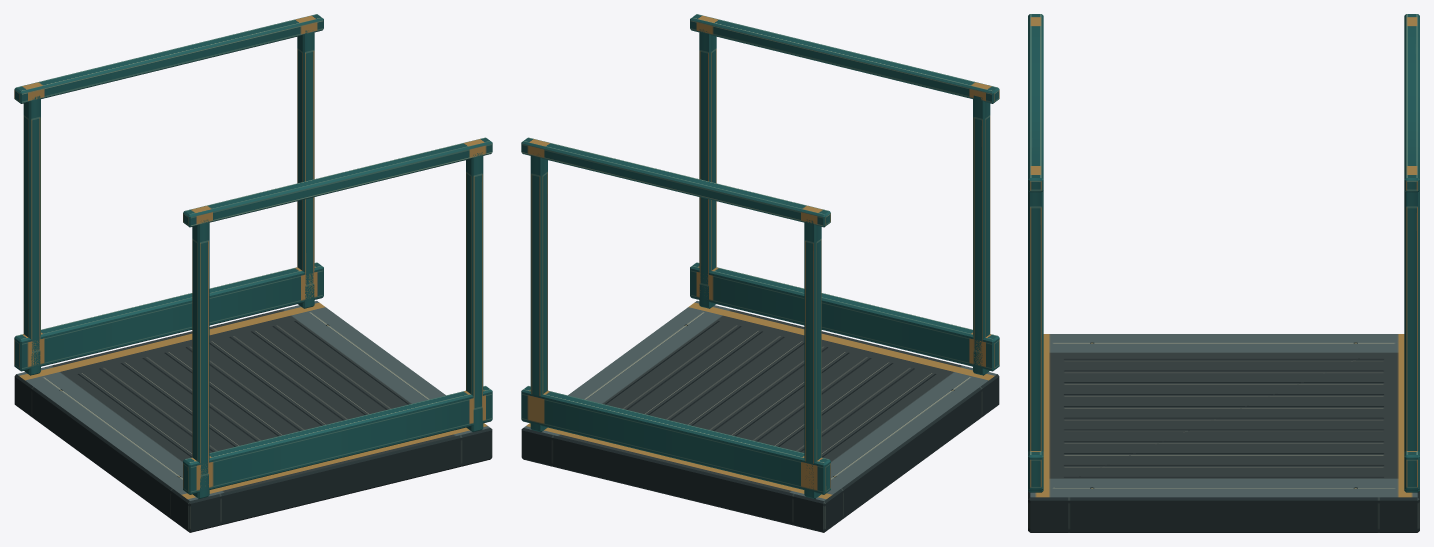
File: SM_CarriageConnection.fbx
The picture shows the model from 3 angles, left to right: view 1: azimuth 30°, elevation 25°; view 2: azimuth 150°, elevation 25°; view 3: azimuth 270°, elevation 25°; orthographic projection. The views are drawn at different scales.
Parts seen in each view (by area): view 1: SM_CarriageConnection; view 2: SM_CarriageConnection; view 3: SM_CarriageConnection.
Boxes of the visible parts, x1,y1,x2,y2 form: SM_CarriageConnection: (14, 14, 492, 532); SM_CarriageConnection: (521, 14, 999, 532); SM_CarriageConnection: (1028, 14, 1419, 532).
Size of the model in its own units: 100 by 100 by 100.
Materials: 1 (1 with a texture image).
